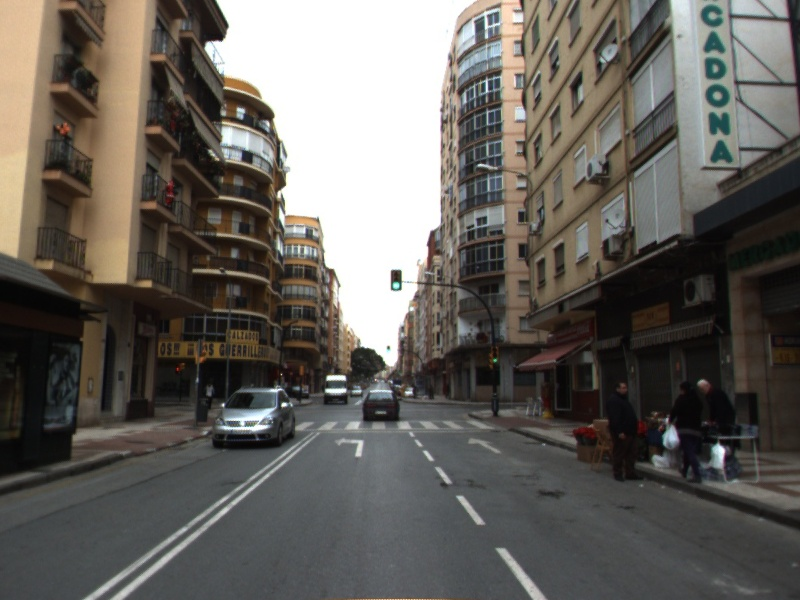LEFT: (332, 435, 366, 459)
STRAIGHT: (465, 435, 504, 455)
